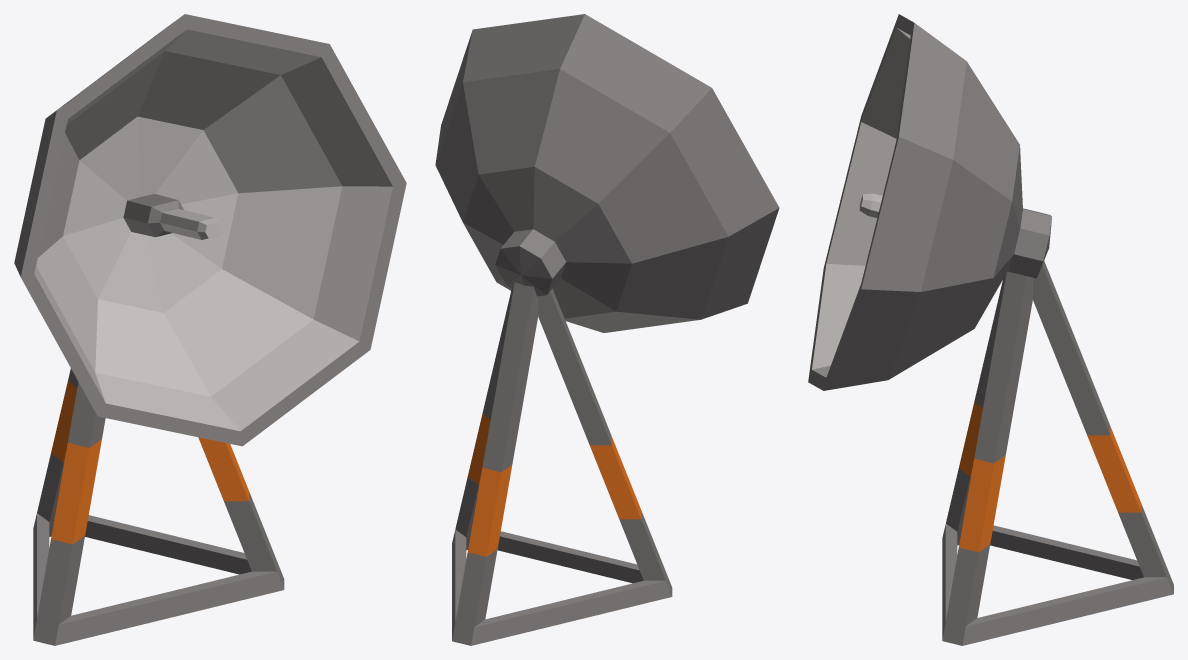
Rendered from scifi-scifi-satelit-stand-small.glb.
The picture shows the model from 3 angles, left to right: view 1: azimuth 30°, elevation 25°; view 2: azimuth 150°, elevation 25°; view 3: azimuth 270°, elevation 25°; orthographic projection. The views are drawn at different scales.
Visible parts, largest first — view 1: scifi-satelit-stand-small; view 2: scifi-satelit-stand-small; view 3: scifi-satelit-stand-small.
Part boxes in pixels (x1,y1,x2,y2): scifi-satelit-stand-small: [14, 14, 406, 645]; scifi-satelit-stand-small: [435, 14, 779, 645]; scifi-satelit-stand-small: [808, 14, 1173, 645].
Size of the model in its own units: 1.6 by 2.44 by 1.42.
